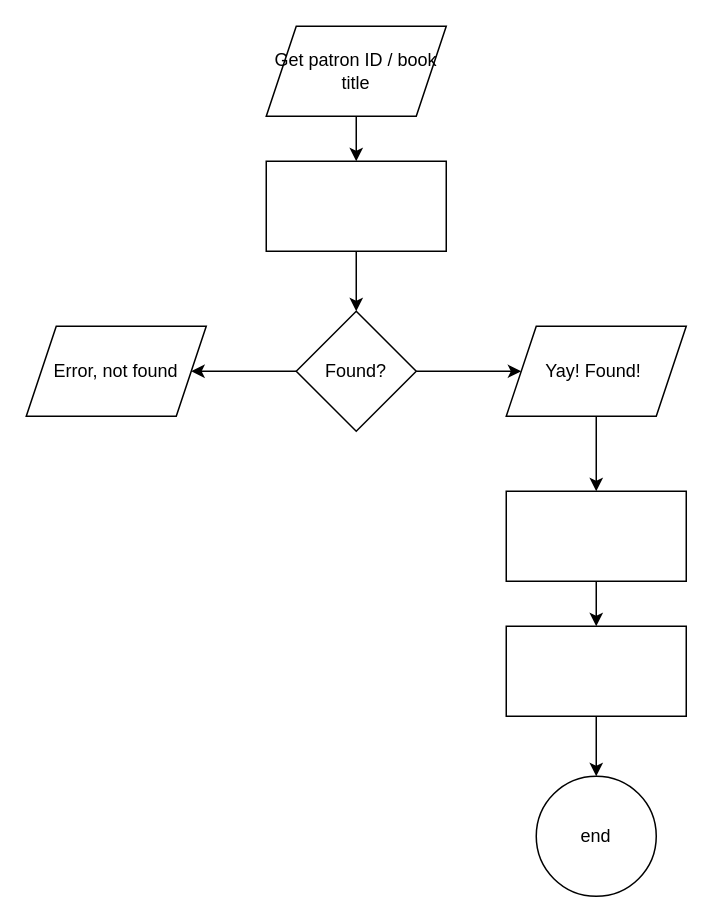
Image size: 713x923. Some labels were removed from this diagram. Here are the shapes that lost their labels. From the top down, the box of each, then its label:
(265, 160, 446, 251): find patron by ID or find book by title
(505, 490, 686, 581): Store data of patron who checked out which book
(505, 625, 686, 716): Checked out ebook or printed book with transactions and patron and book
